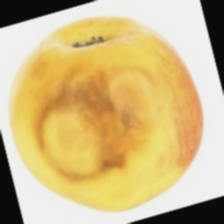apple: (14, 8, 210, 187)
